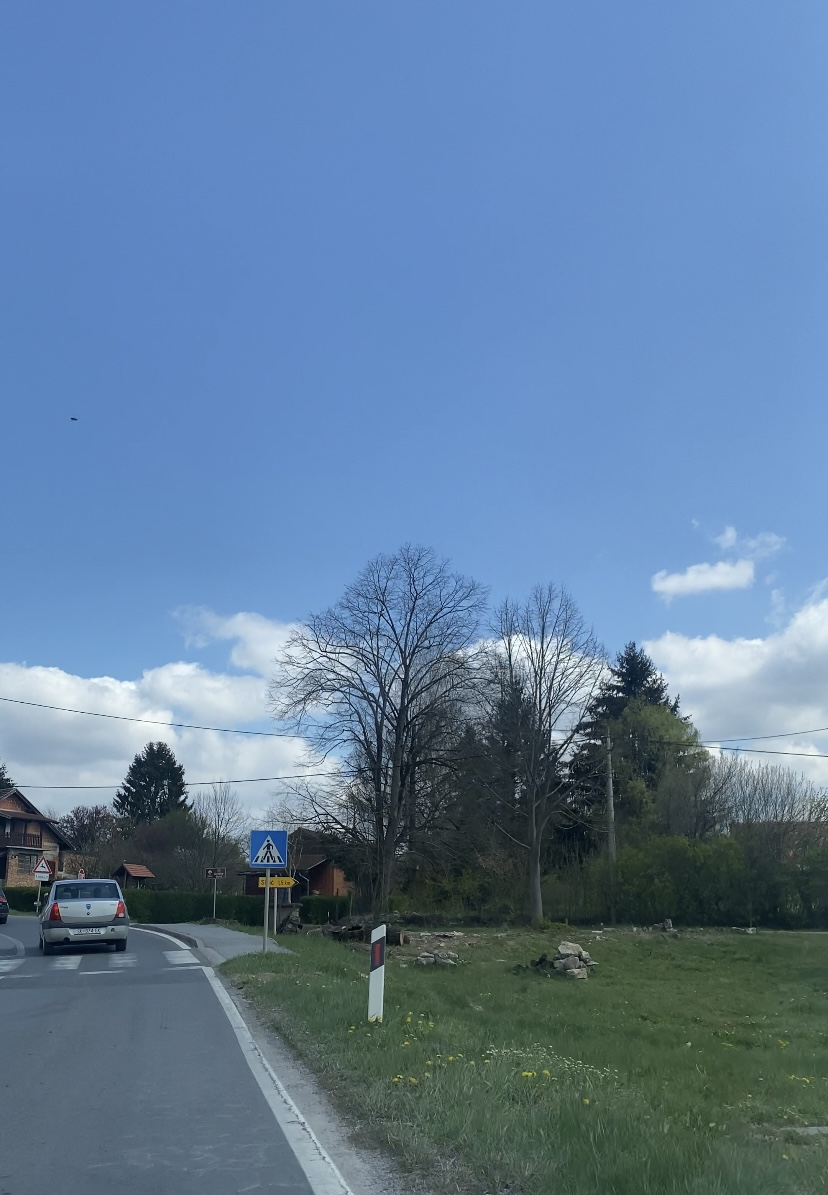Pješački prijelaz: (250, 830, 288, 868)
